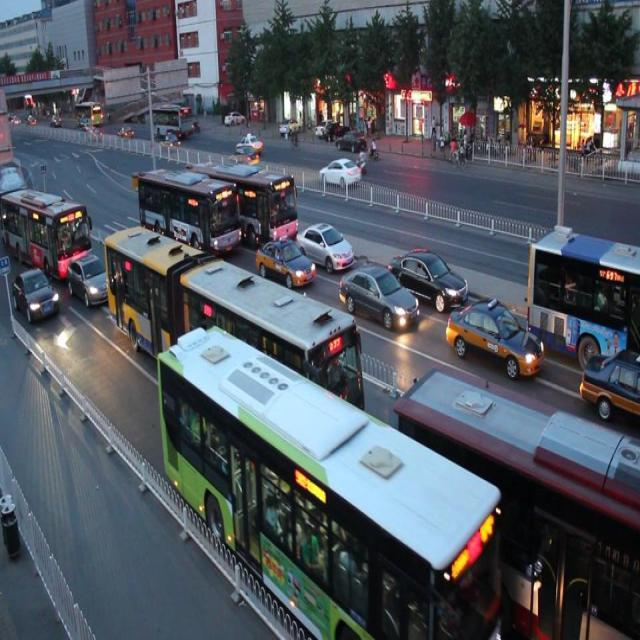car: (446, 294, 544, 382), (337, 258, 416, 331), (390, 243, 468, 309), (576, 345, 640, 413), (253, 230, 314, 289), (294, 214, 352, 273), (11, 268, 60, 325), (67, 253, 115, 306)
van: (157, 327, 501, 640), (102, 218, 366, 482), (394, 367, 640, 639), (527, 225, 640, 372), (136, 160, 240, 262), (191, 153, 298, 248), (1, 182, 90, 272)
